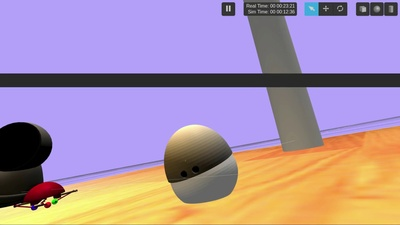mira_robot: (165, 124, 238, 203)
